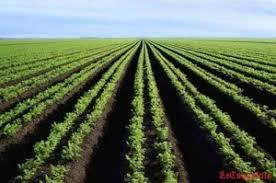field: (0, 39, 275, 181)
